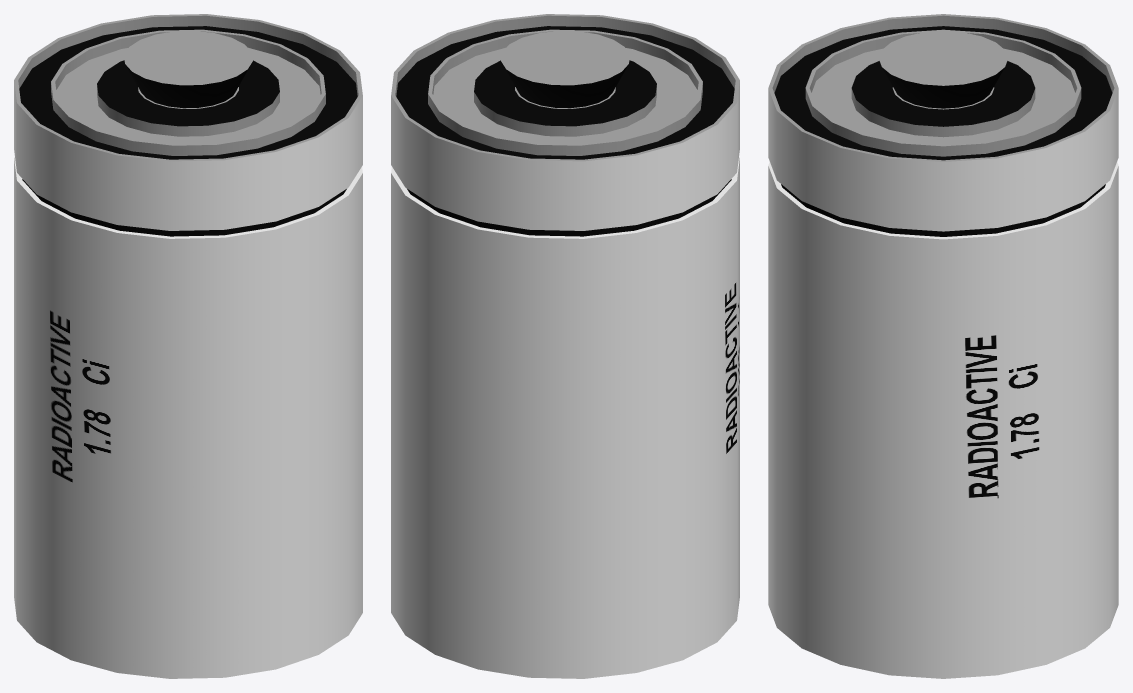
File: rad cs137 (1).fbx
3 views of the same model, side by side, from view 1: azimuth 30°, elevation 25°; view 2: azimuth 150°, elevation 25°; view 3: azimuth 270°, elevation 25° (orthographic).
Visible parts, largest first — view 1: pCylinder1, pCone1; view 2: pCylinder1, pCone1; view 3: pCylinder1, pCone1.
Boxes of the visible parts, x1,y1,x2,y2 form: pCylinder1: [14, 14, 362, 678]; pCone1: [124, 31, 252, 108]; pCylinder1: [391, 14, 739, 678]; pCone1: [501, 31, 629, 108]; pCylinder1: [768, 14, 1118, 678]; pCone1: [878, 31, 1008, 108].
Size of the model in its own units: 6.14 by 10.57 by 6.14.
4 materials, 1 textured.
